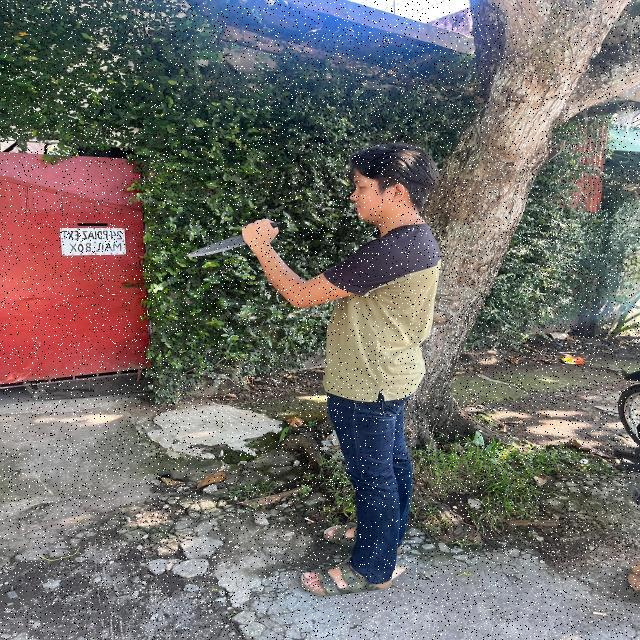knife: (188, 220, 282, 258)
non-violence: (185, 146, 438, 591)
